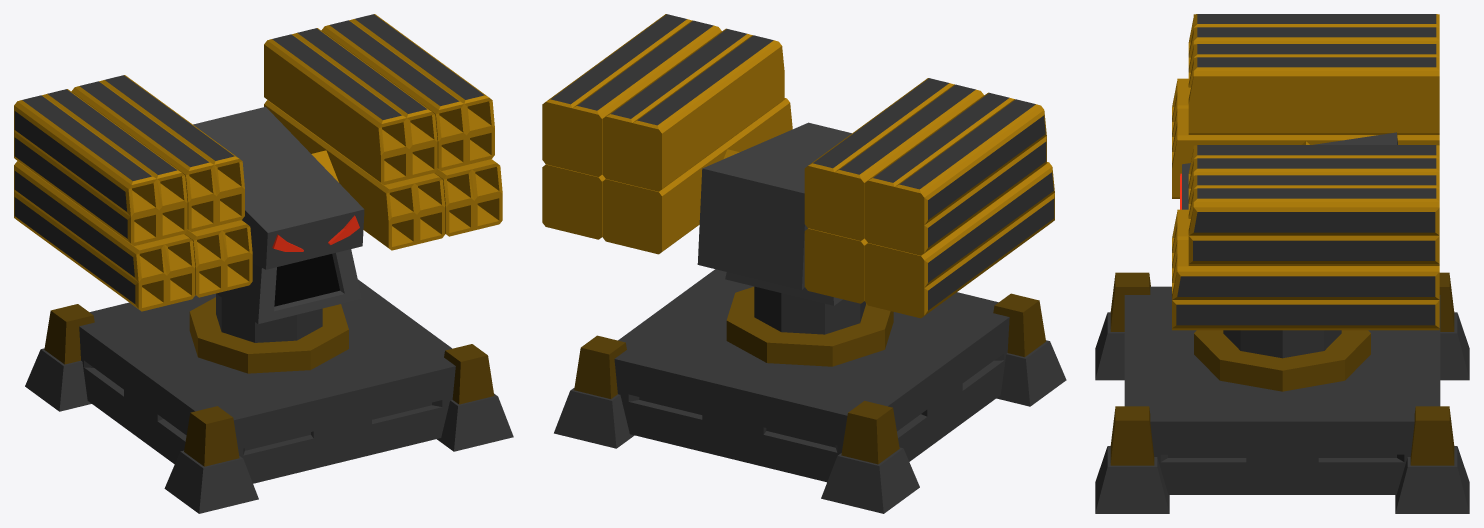
Rendered from missileTurret.glb.
The picture shows the model from 3 angles, left to right: view 1: azimuth 30°, elevation 25°; view 2: azimuth 150°, elevation 25°; view 3: azimuth 270°, elevation 25°; orthographic projection. The views are drawn at different scales.
Parts seen in each view (by area): view 1: GunsMissileTurret1, BaseMissileTurret1, HeadMissileTurret1, MiddleMissileTurret1; view 2: GunsMissileTurret1, BaseMissileTurret1, HeadMissileTurret1, MiddleMissileTurret1; view 3: GunsMissileTurret1, BaseMissileTurret1, MiddleMissileTurret1, HeadMissileTurret1.
Part boxes in pixels (box(x1,y1,x2,y2)): GunsMissileTurret1: box(14, 14, 502, 311); BaseMissileTurret1: box(25, 279, 513, 513); HeadMissileTurret1: box(193, 107, 364, 323); MiddleMissileTurret1: box(189, 293, 348, 373); GunsMissileTurret1: box(542, 14, 1054, 318); BaseMissileTurret1: box(554, 269, 1066, 513); HeadMissileTurret1: box(697, 122, 851, 305); MiddleMissileTurret1: box(726, 286, 893, 366); GunsMissileTurret1: box(1172, 14, 1439, 330); BaseMissileTurret1: box(1095, 272, 1469, 513); MiddleMissileTurret1: box(1194, 330, 1370, 391); HeadMissileTurret1: box(1180, 132, 1397, 209).
Bounding box in the file's own units: 3.6 × 2.83 × 2.96.
